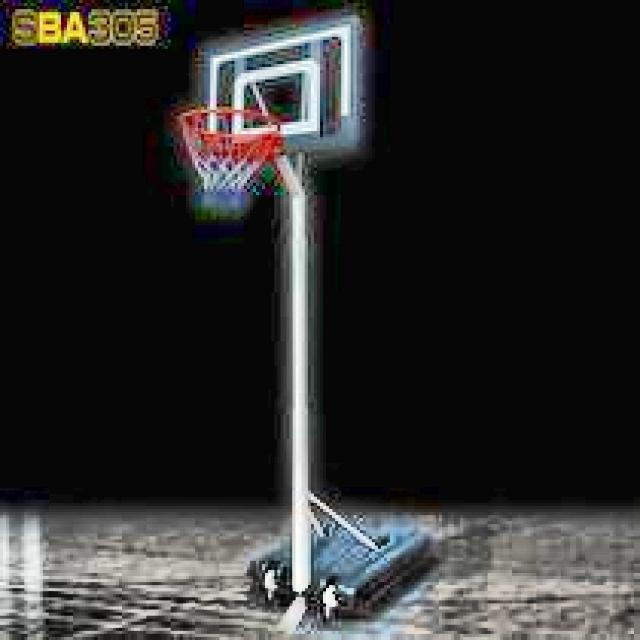rim: (175, 107, 279, 210)
